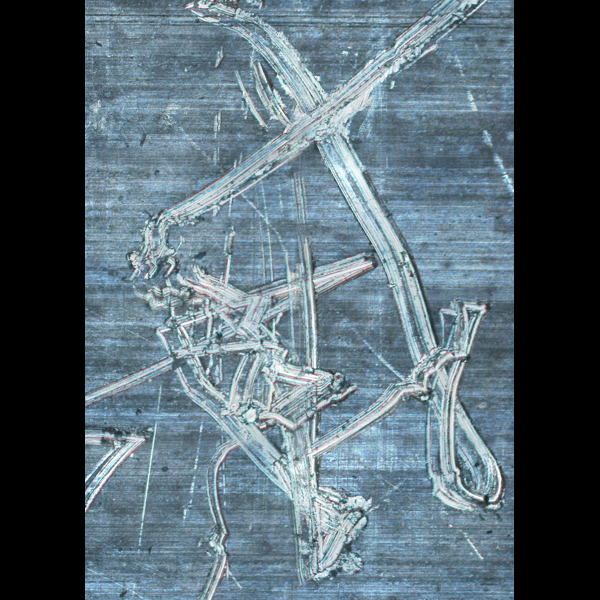d: (141, 0, 461, 279), (125, 216, 367, 457), (389, 281, 507, 527), (278, 448, 382, 591), (198, 433, 264, 599), (85, 405, 164, 525)
